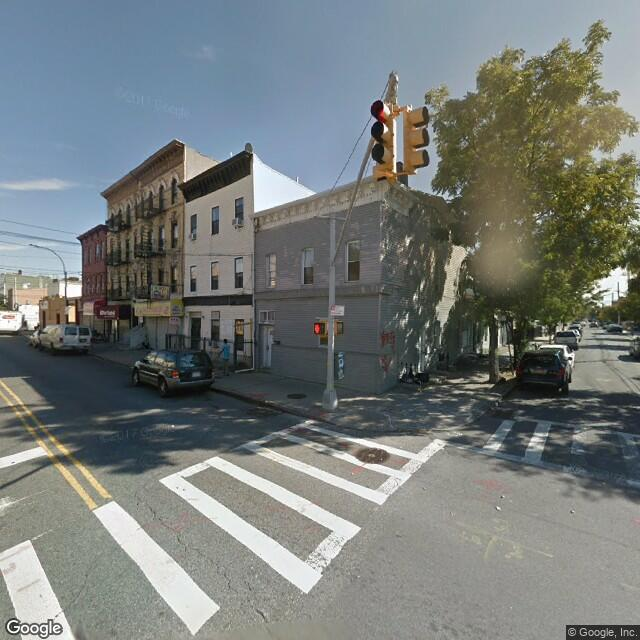litter: (568, 509, 573, 515), (499, 504, 502, 509)
